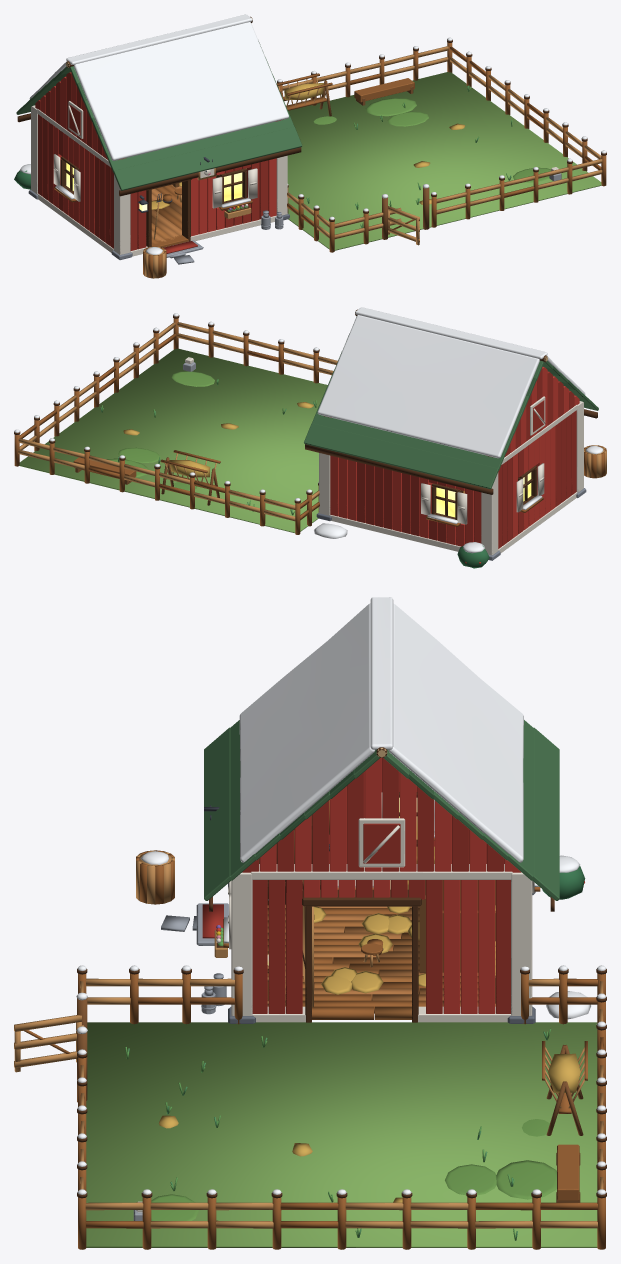
Rendered from barn.glb.
The picture shows the model from 3 angles, top to bottom: view 1: azimuth 30°, elevation 25°; view 2: azimuth 150°, elevation 25°; view 3: azimuth 270°, elevation 25°; orthographic projection. The views are drawn at different scales.
Parts seen in each view (by area): view 1: floor, roof, walls, exterior, walls_low, interior; view 2: roof, floor, walls, exterior, walls_low; view 3: floor, roof, walls, exterior, interior, walls_low.
Boxes of the visible parts, x1,y1,x2,y2 form: floor: (151, 72, 601, 257); roof: (16, 14, 302, 196); walls: (28, 105, 289, 260); exterior: (14, 37, 606, 278); walls_low: (31, 174, 287, 254); interior: (151, 182, 181, 239); roof: (304, 307, 598, 494); floor: (19, 348, 464, 532); walls: (316, 401, 586, 560); exterior: (14, 313, 606, 568); walls_low: (319, 471, 583, 554); floor: (86, 887, 597, 1247); roof: (204, 597, 559, 911); walls: (204, 758, 540, 1023); exterior: (14, 850, 606, 1249); interior: (267, 846, 495, 1005); walls_low: (232, 859, 531, 1022).
Size of the model in its own units: 13.18 by 4.82 by 8.9.
